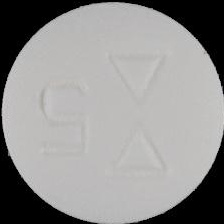0093-5850: (0, 0, 224, 224)
